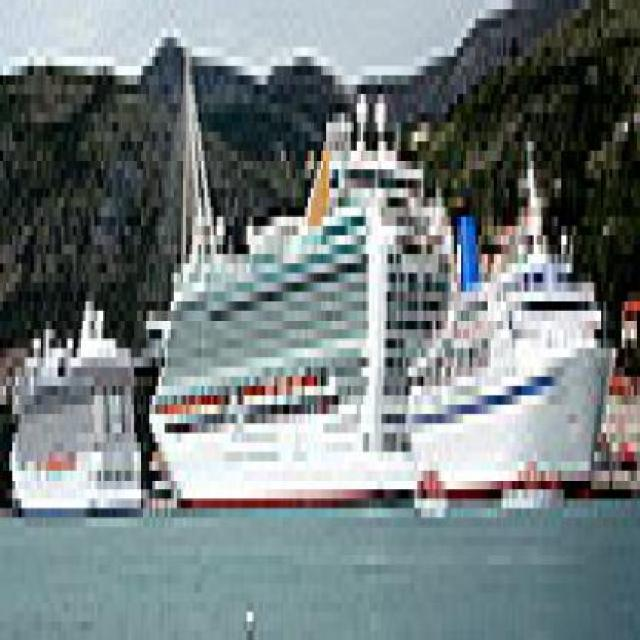cruise: (150, 67, 464, 510), (410, 181, 627, 510), (1, 293, 147, 537)
